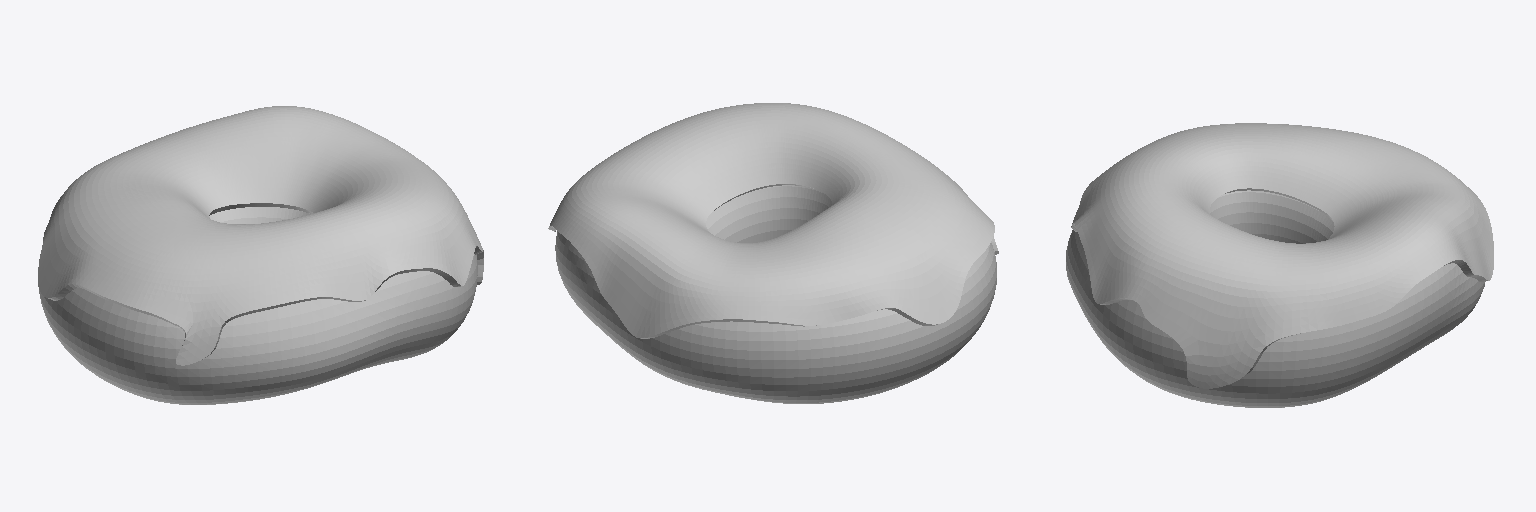
File: donut.obj
The picture shows the model from 3 angles: view 1: azimuth 30°, elevation 25°; view 2: azimuth 150°, elevation 25°; view 3: azimuth 270°, elevation 25°; orthographic projection.
Visible parts, largest first — view 1: glaze, donut; view 2: glaze, donut; view 3: glaze, donut.
Boxes of the visible parts, x1=… form: glaze: x1=38, y1=106, x2=483, y2=365; donut: x1=39, y1=207, x2=477, y2=404; glaze: x1=548, y1=103, x2=998, y2=338; donut: x1=555, y1=185, x2=996, y2=403; glaze: x1=1071, y1=123, x2=1493, y2=388; donut: x1=1066, y1=190, x2=1484, y2=407.
Bounding box in the file's own units: 0.1608 × 0.0685 × 0.1518.